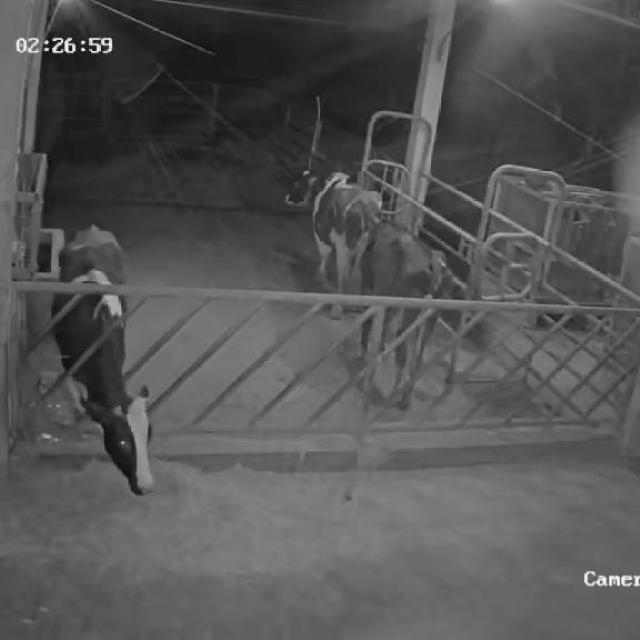feeding: (52, 222, 165, 497)
standing: (354, 208, 450, 411), (274, 166, 384, 314)
